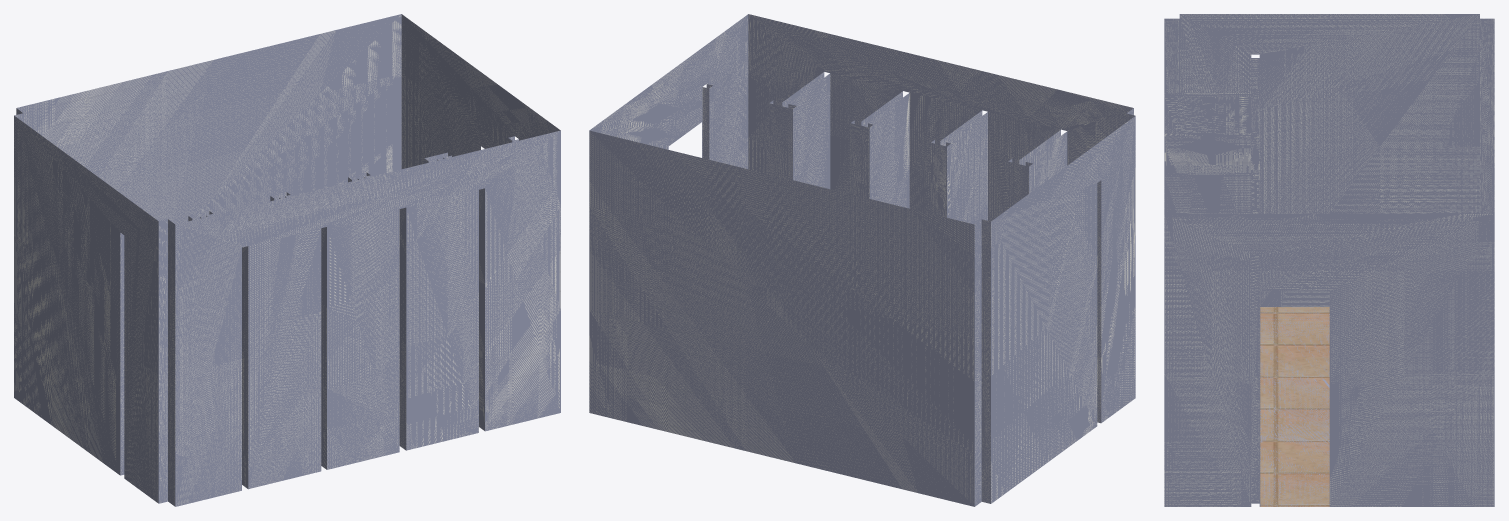
File: COM053.obj
3 renders of one model, left to right at view 1: azimuth 30°, elevation 25°; view 2: azimuth 150°, elevation 25°; view 3: azimuth 270°, elevation 25°, orthographic. The views are drawn at different scales.
Visible parts, largest first — view 1: Mesh1 COM053 Model; view 2: Mesh1 COM053 Model; view 3: Mesh1 COM053 Model.
Boxes of the visible parts, x1,y1,x2,y2 form: Mesh1 COM053 Model: [14, 14, 560, 506]; Mesh1 COM053 Model: [589, 14, 1135, 506]; Mesh1 COM053 Model: [1164, 14, 1494, 506].
Bounding box in the file's own units: 4.39 × 3 × 3.07.
Materials: 3 (2 with a texture image).
